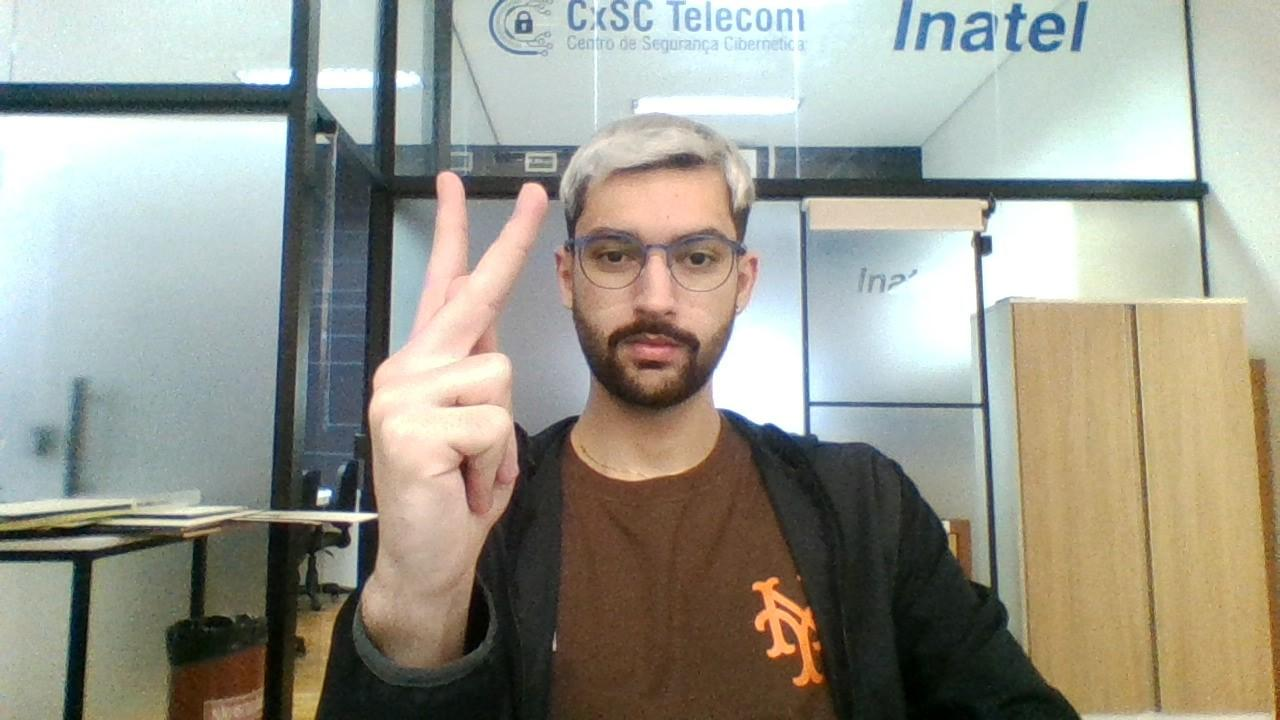K: (368, 148, 546, 558)
